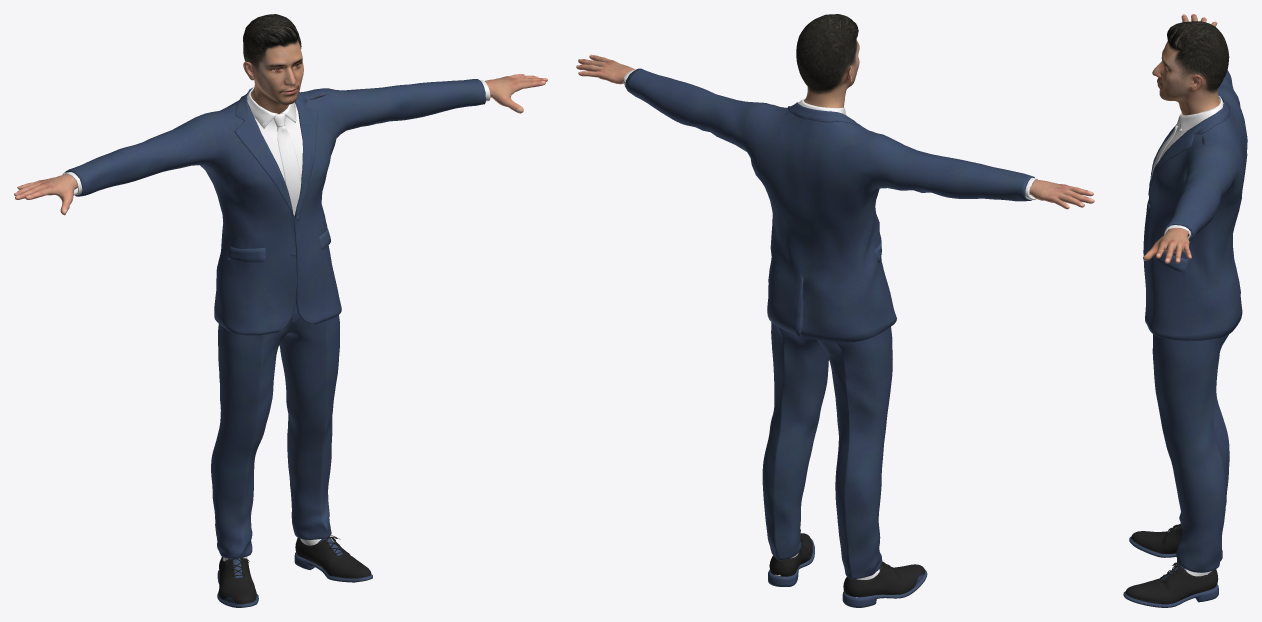
The model's file is Hkai_2.glb.
3 renders of one model, left to right at view 1: azimuth 30°, elevation 25°; view 2: azimuth 150°, elevation 25°; view 3: azimuth 270°, elevation 25°, orthographic. The views are drawn at different scales.
Parts seen in each view (by area): view 1: outfit, AvatarHead, AvatarBody; view 2: outfit, AvatarHead, AvatarBody; view 3: outfit, AvatarHead, AvatarBody.
Boxes of the visible parts, x1,y1,x2,y2 form: outfit: (62,79,490,607); AvatarHead: (243,14,303,114); AvatarBody: (14,74,547,215); outfit: (623,68,1037,607); AvatarHead: (796,14,859,107); AvatarBody: (576,54,1094,209); outfit: (1123,70,1247,607); AvatarHead: (1152,21,1229,115); AvatarBody: (1143,14,1217,263).
Size of the model in its own units: 1.66 by 1.71 by 0.3493.
8 materials, 7 textured.
